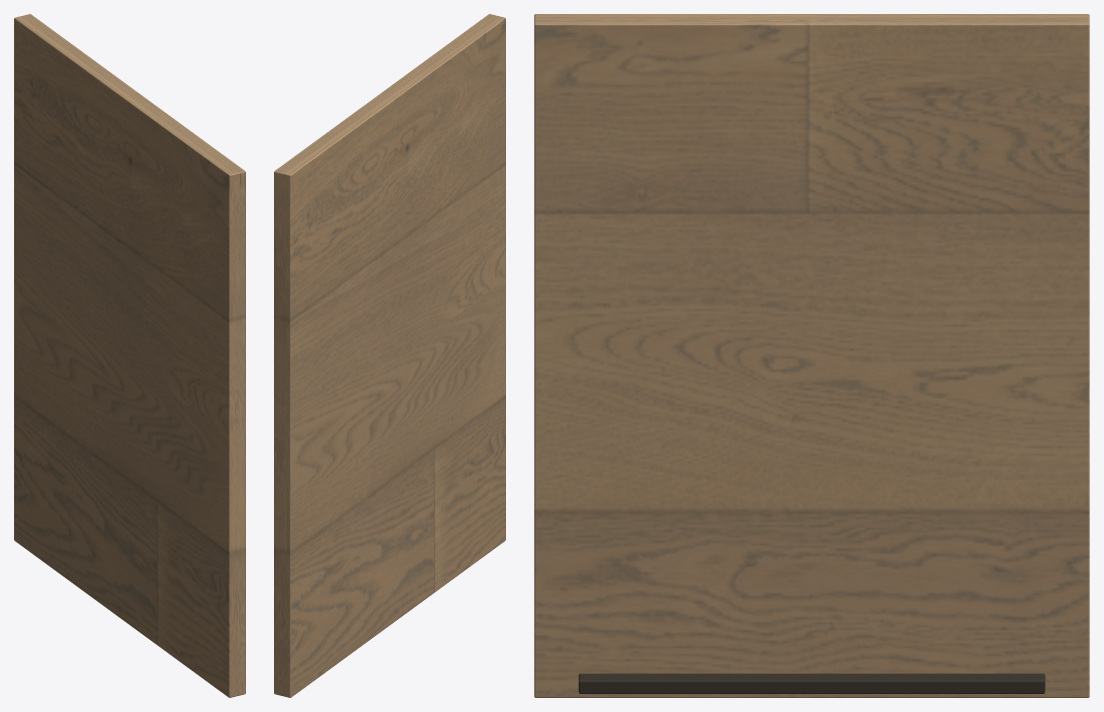
Rendered from upper_cabinet_door_1.glb.
The picture shows the model from 3 angles, left to right: view 1: azimuth 30°, elevation 25°; view 2: azimuth 150°, elevation 25°; view 3: azimuth 270°, elevation 25°; orthographic projection. The views are drawn at different scales.
Parts seen in each view (by area): view 1: upper_cabinet_door_1_panel; view 2: upper_cabinet_door_1_panel; view 3: upper_cabinet_door_1_panel, upper_cabinet_door_1_pull.
Part boxes in pixels (x1,y1,x2,y2): upper_cabinet_door_1_panel: (14,14,245,697); upper_cabinet_door_1_panel: (274,14,505,697); upper_cabinet_door_1_panel: (534,14,1089,697); upper_cabinet_door_1_pull: (578,673,1045,693).
Size of the model in its own units: 0.045 by 0.702 by 0.524.
Materials: 2 (1 with a texture image).
